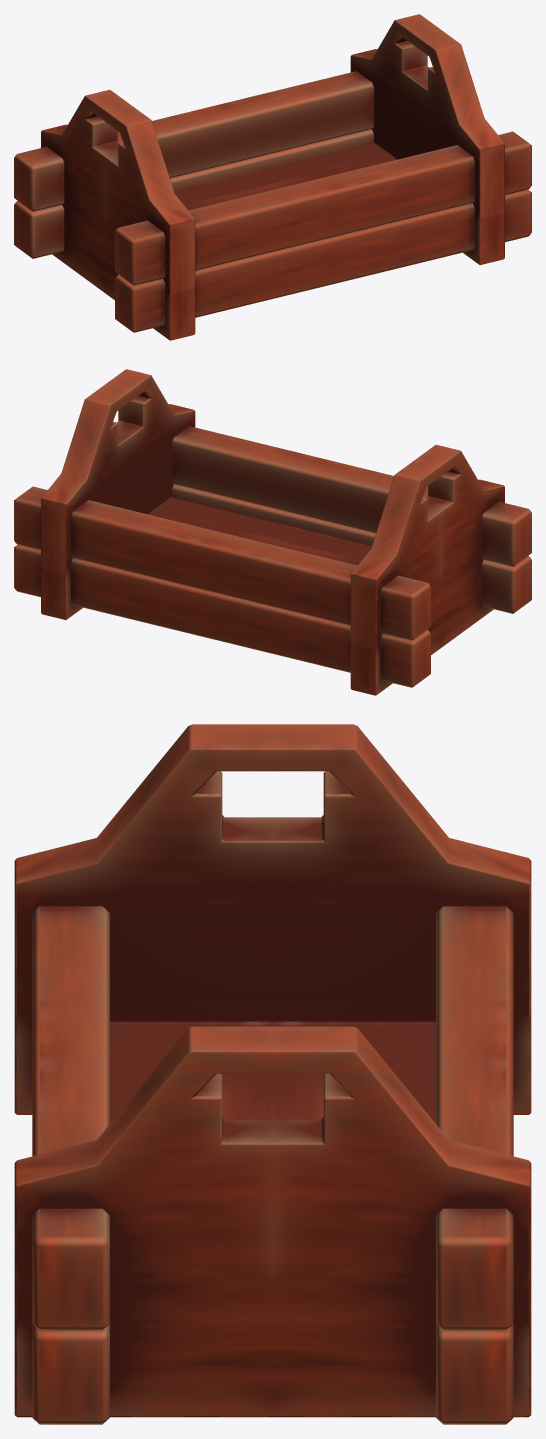
File: basket.fbx
3 views of the same model, one above another, from view 1: azimuth 30°, elevation 25°; view 2: azimuth 150°, elevation 25°; view 3: azimuth 270°, elevation 25° (orthographic). The views are drawn at different scales.
Parts seen in each view (by area): view 1: Plane.007, Plane.006; view 2: Plane.007, Plane.006; view 3: Plane.006, Plane.007.
Boxes of the visible parts, <box> form: Plane.007: <box>14,71,531,332</box>; Plane.006: <box>41,14,504,340</box>; Plane.007: <box>14,426,531,687</box>; Plane.006: <box>41,369,504,695</box>; Plane.006: <box>14,724,531,1417</box>; Plane.007: <box>32,852,513,1424</box>.
Bounding box in the file's own units: 746 × 326 × 416.
